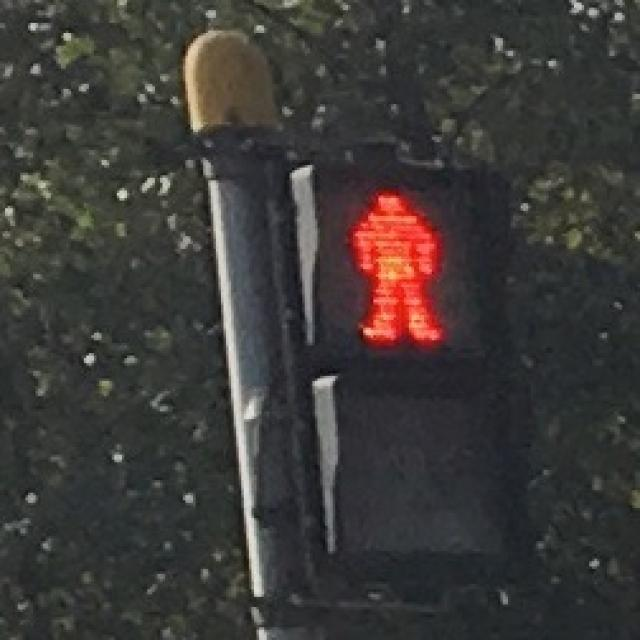red-crossing: (320, 168, 475, 360)
